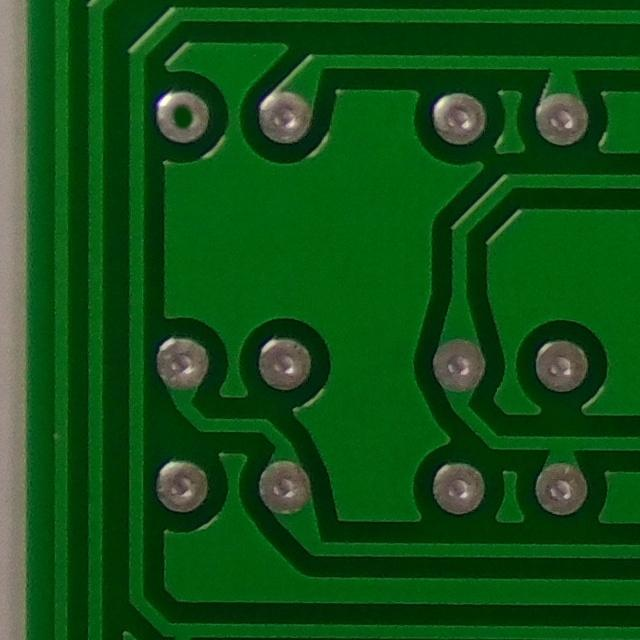missing_hole: (149, 88, 222, 152)
